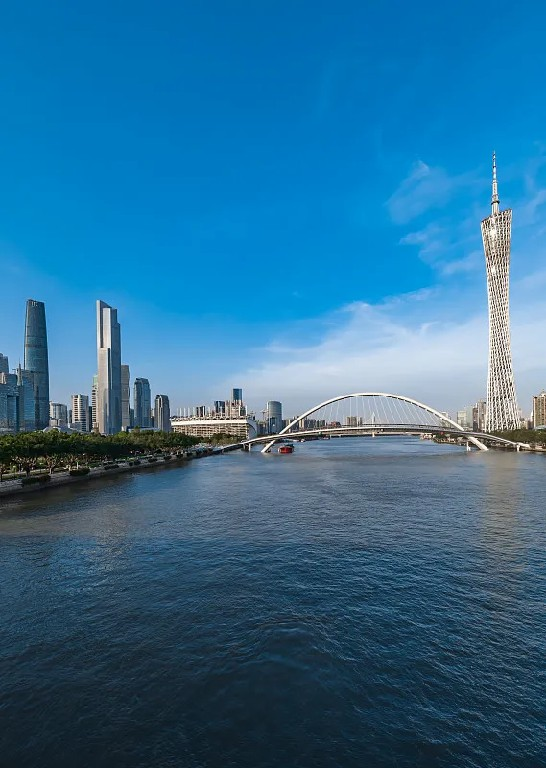Canton: (476, 149, 529, 433)
